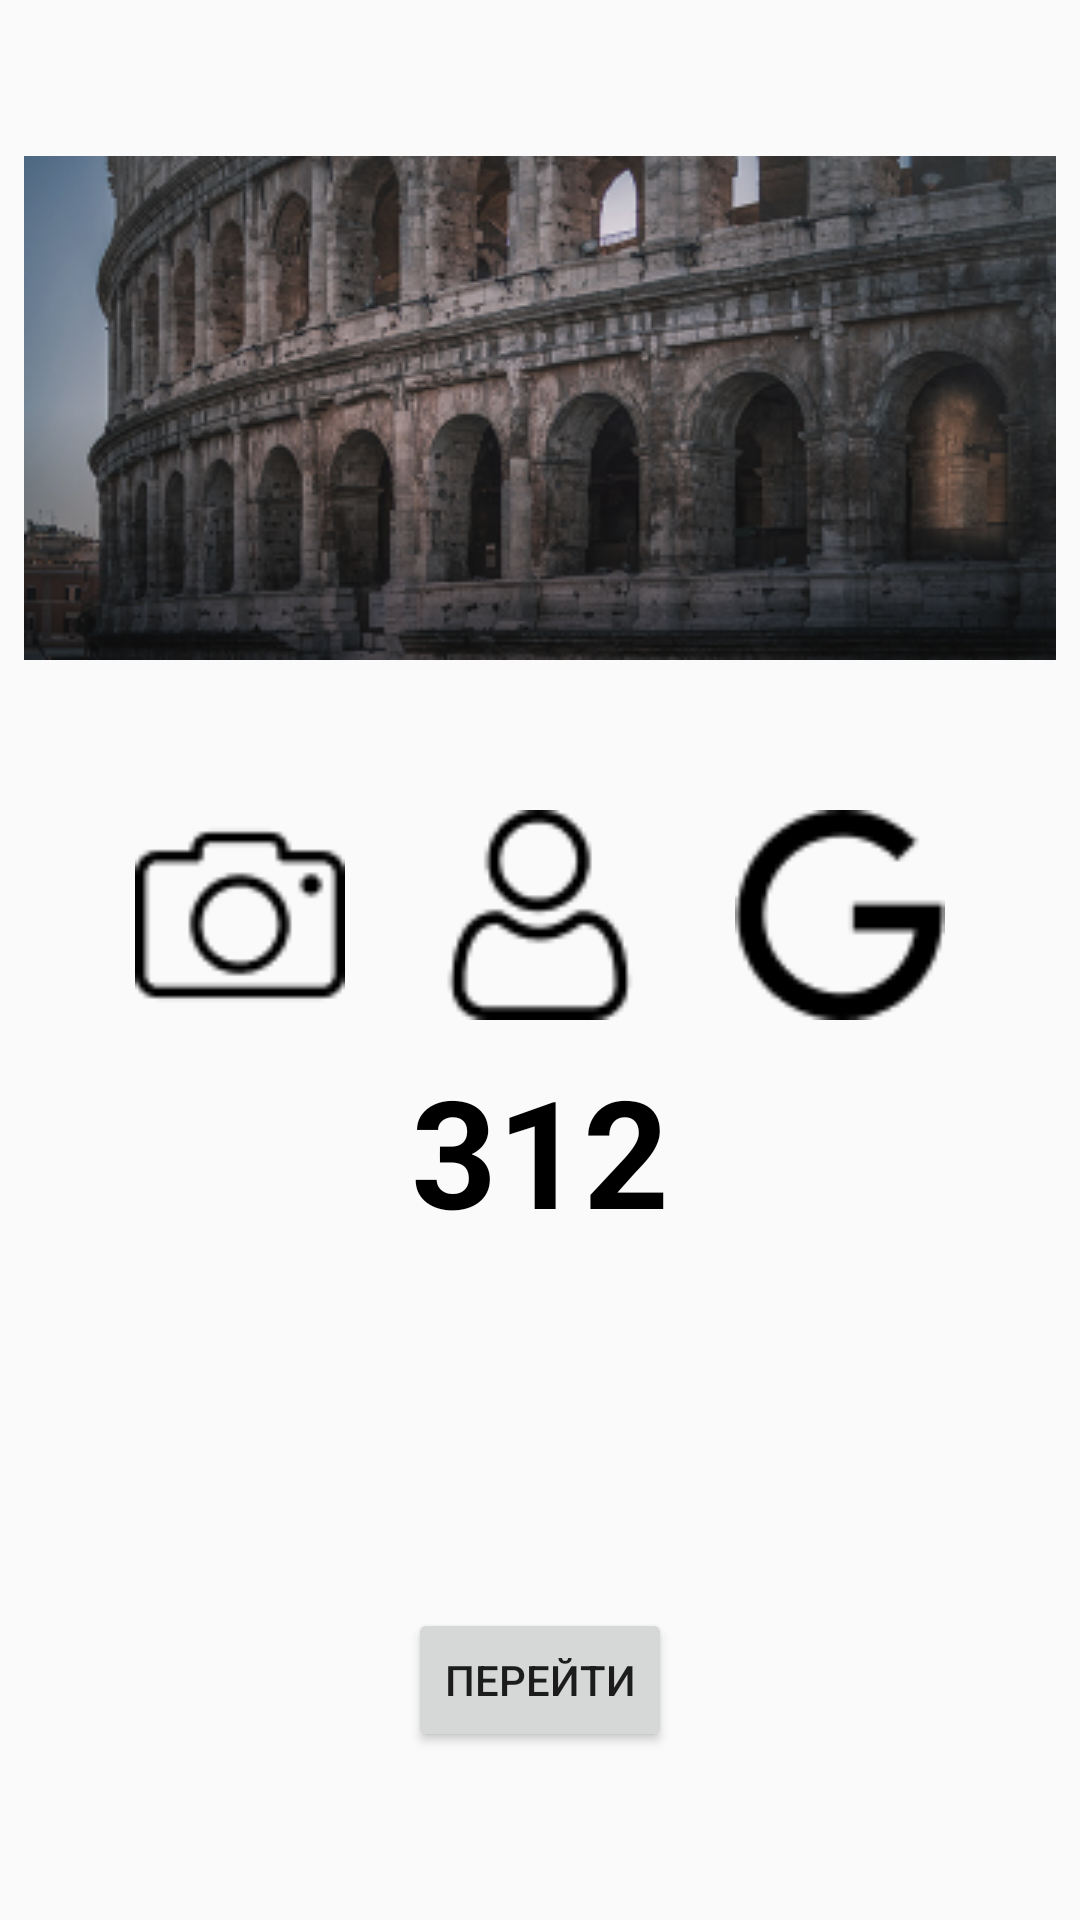

Where icons sit on this 1080*1920 app screen, as (x1, y1, x2, y2):
camera: (135, 831, 345, 999)
contact: (448, 810, 630, 1020)
